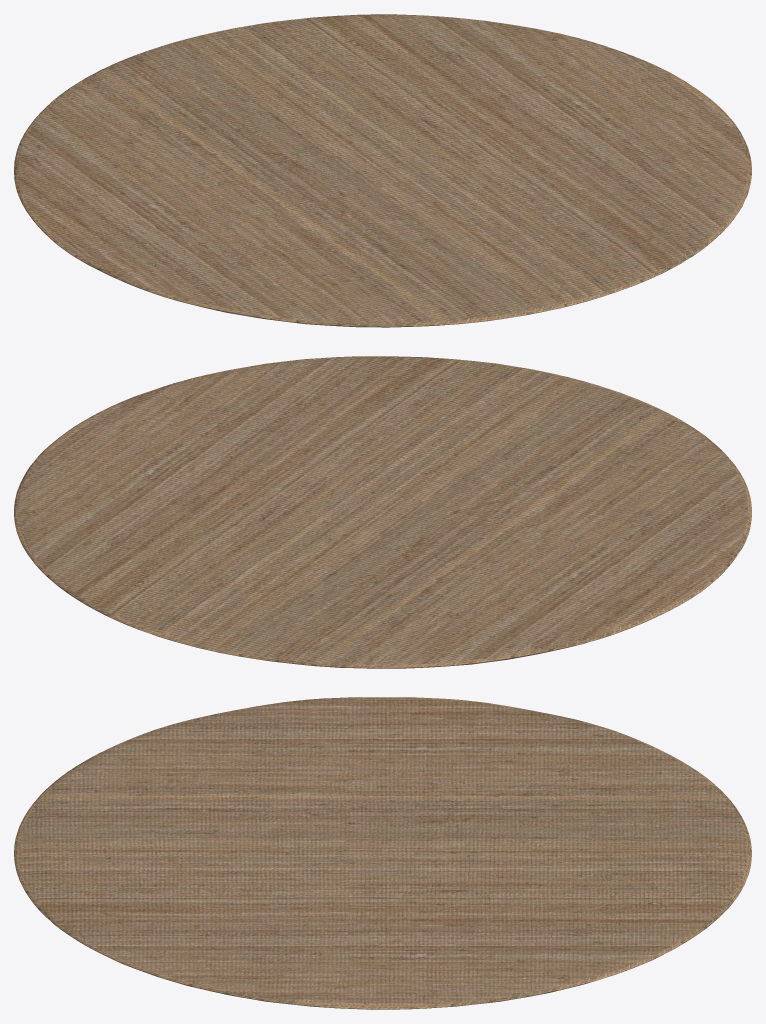
Rendered from 01 - LOHALS Rug, flatwoven - natural 230 cm.glb.
3 renders of one model, top to bottom at view 1: azimuth 30°, elevation 25°; view 2: azimuth 150°, elevation 25°; view 3: azimuth 270°, elevation 25°, orthographic.
Visible parts, largest first — view 1: ASY_ART_10504024_S01_NV01; view 2: ASY_ART_10504024_S01_NV01; view 3: ASY_ART_10504024_S01_NV01.
Part boxes in pixels (x1,y1,x2,y2): ASY_ART_10504024_S01_NV01: (14,14,751,327); ASY_ART_10504024_S01_NV01: (14,356,751,668); ASY_ART_10504024_S01_NV01: (14,697,751,1009).
Bounding box in the file's own units: 2.3 × 0.0232 × 2.3.
2 materials, 2 textured.
